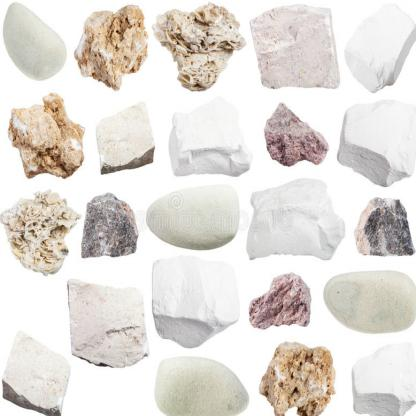Sedimentary_Limestone: (68, 279, 152, 371), (250, 0, 336, 89), (247, 182, 347, 258), (153, 8, 242, 91), (9, 92, 89, 184), (152, 265, 242, 344), (340, 4, 415, 97), (334, 102, 415, 187), (74, 5, 152, 91), (0, 195, 78, 277), (168, 99, 252, 175), (254, 340, 337, 416), (153, 352, 249, 416), (324, 267, 415, 334), (1, 334, 75, 415), (142, 190, 242, 246), (1, 1, 69, 83), (347, 340, 415, 415), (257, 101, 332, 168), (90, 101, 154, 176), (354, 195, 416, 258), (81, 192, 137, 260), (249, 274, 312, 330)
